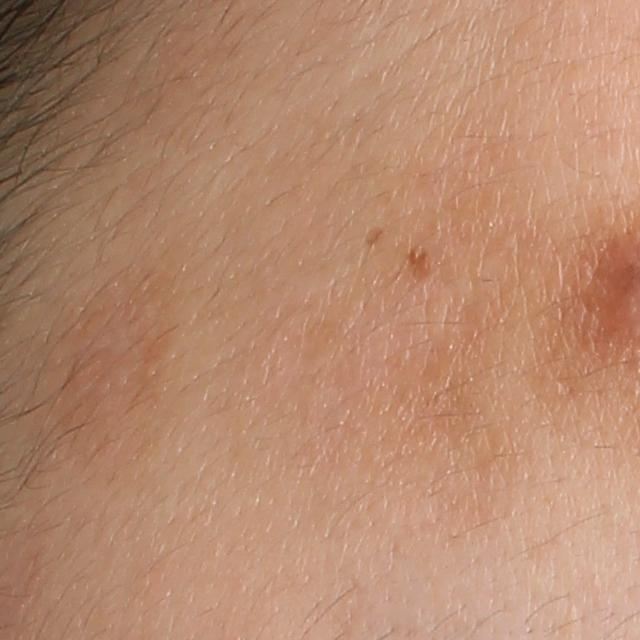nevus: (406, 249, 431, 283)
